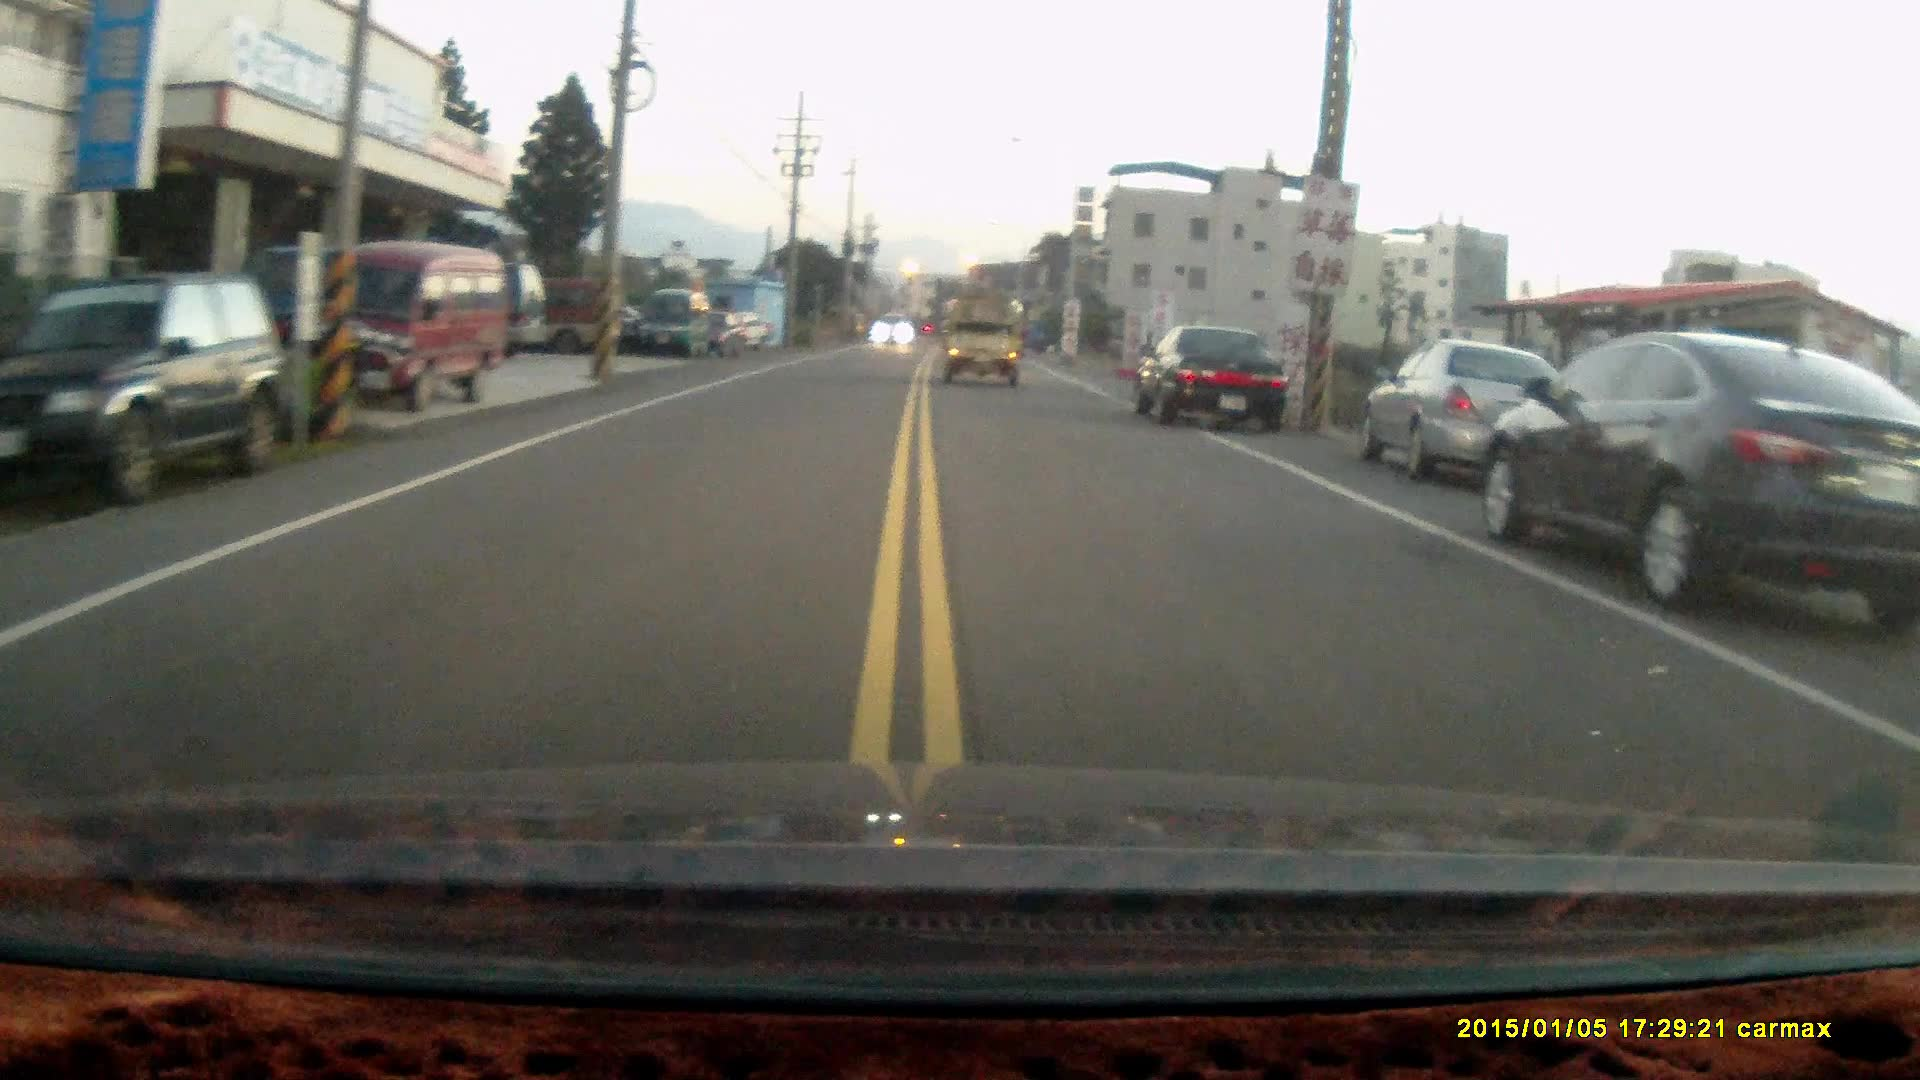vehicle: (1480, 330, 1919, 618), (1, 276, 319, 498), (280, 239, 512, 404), (1360, 332, 1578, 480), (347, 251, 555, 363), (1129, 318, 1291, 433), (463, 268, 616, 349), (947, 294, 1030, 382), (640, 285, 713, 352)
